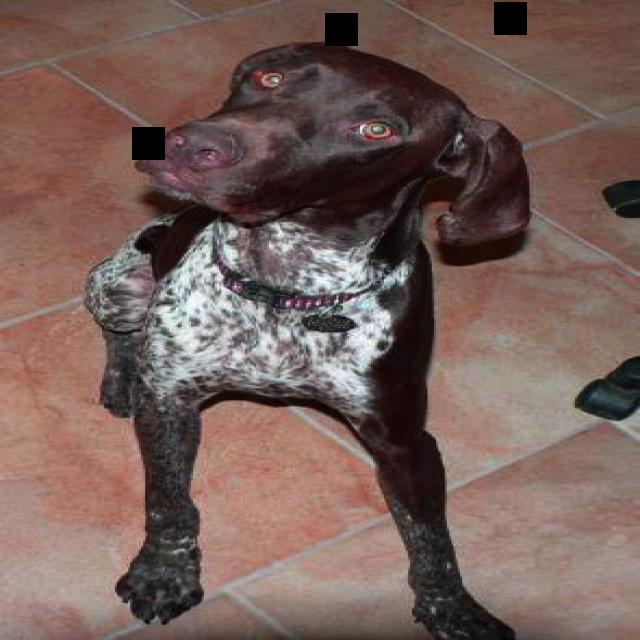adult_dog: (81, 41, 531, 640)
